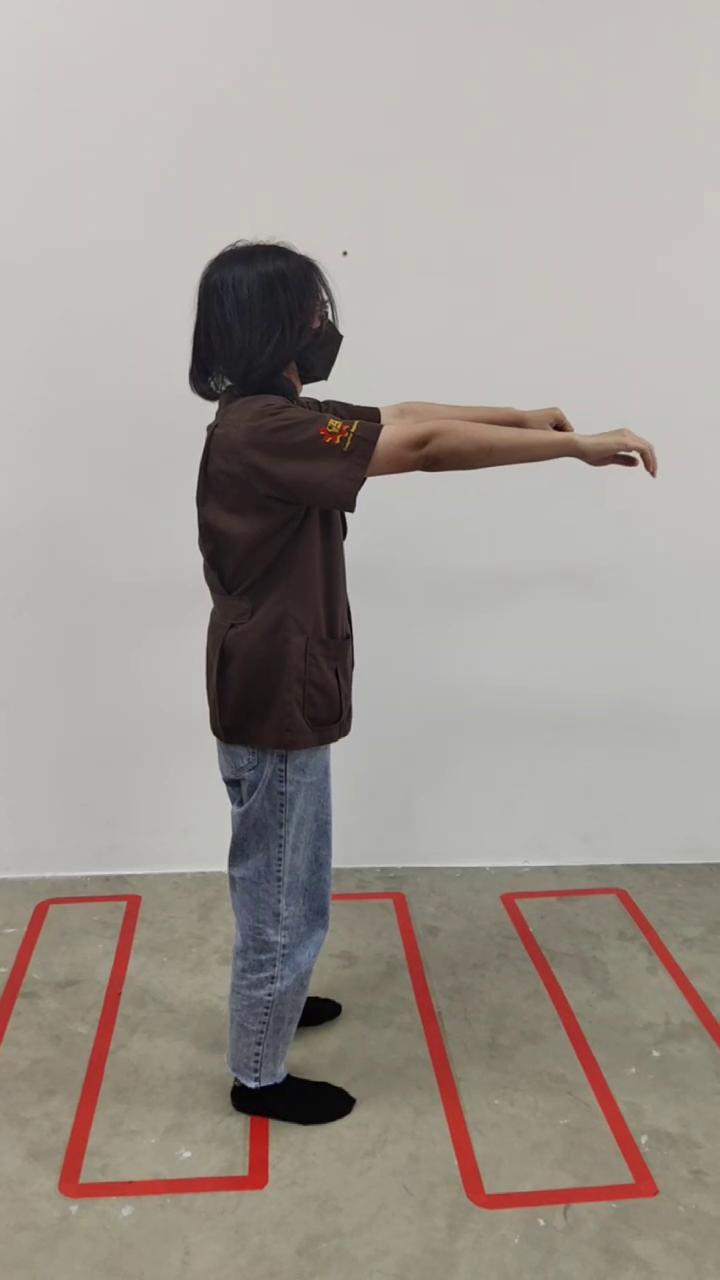squat up: (190, 242, 658, 1128)
